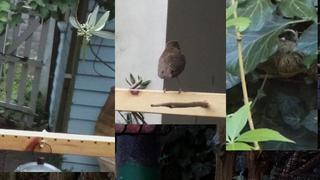robin: (157, 40, 186, 95)
